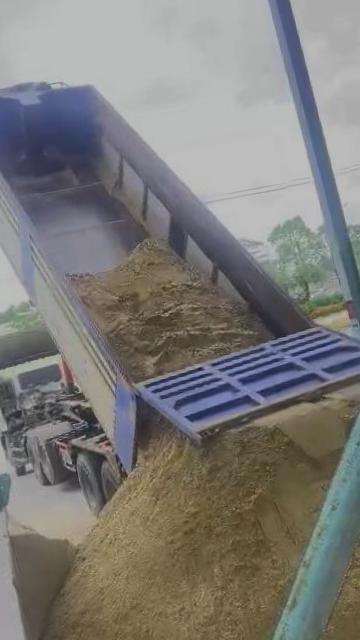sand: (44, 398, 353, 640), (71, 239, 268, 381), (292, 469, 360, 640), (10, 520, 78, 629), (141, 402, 170, 446)
